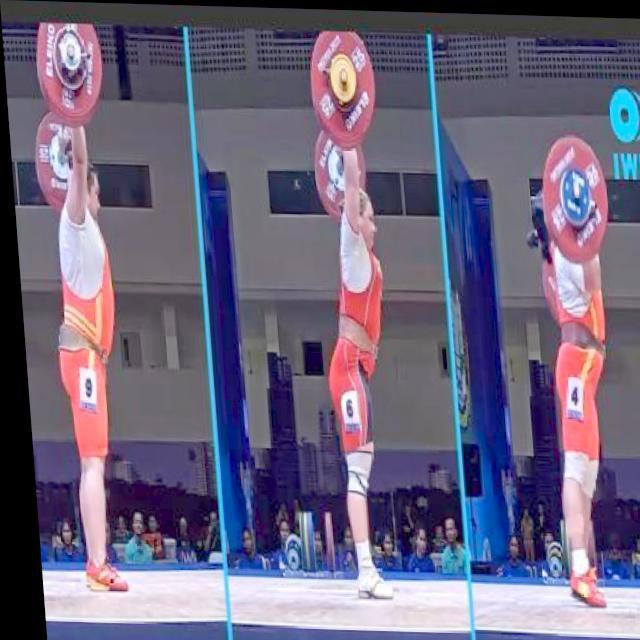barbell: (536, 130, 612, 262), (304, 28, 381, 143), (31, 23, 110, 123)
